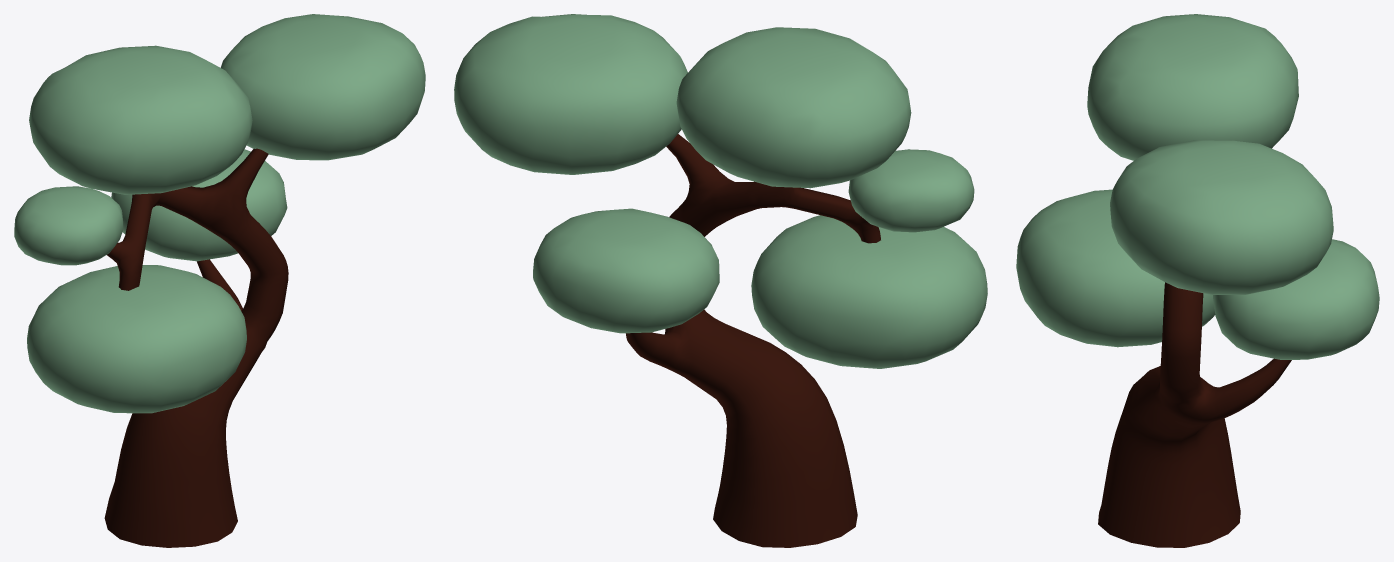
The model's file is tree_09.fbx.
3 renders of one model, left to right at view 1: azimuth 30°, elevation 25°; view 2: azimuth 150°, elevation 25°; view 3: azimuth 270°, elevation 25°, orthographic. The views are drawn at different scales.
Visible parts, largest first — view 1: tree_09; view 2: tree_09; view 3: tree_09.
Boxes of the visible parts, bbox=[...] form: tree_09: bbox=[14, 14, 425, 547]; tree_09: bbox=[454, 14, 987, 547]; tree_09: bbox=[1016, 14, 1379, 547].
Size of the model in its own units: 4.58 by 3.19 by 4.54.
